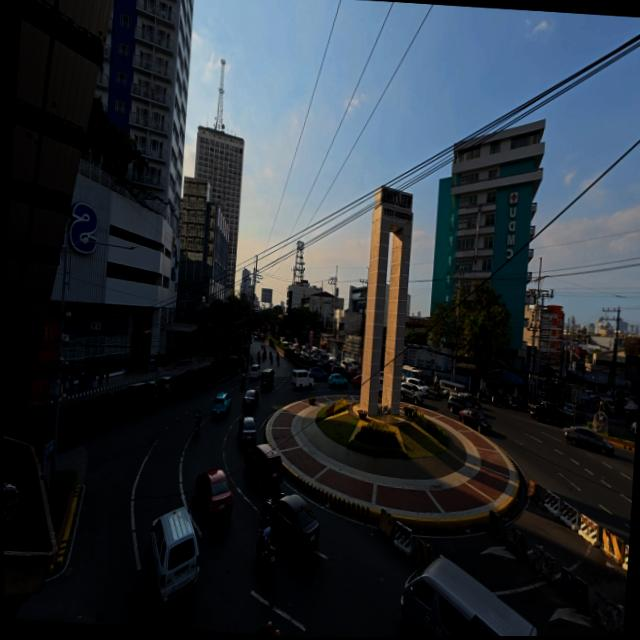Jeepneys: (438, 380, 466, 397)
car: (261, 494, 318, 556), (195, 469, 232, 522), (243, 443, 283, 489), (564, 427, 612, 456), (528, 401, 565, 425), (458, 409, 490, 432), (237, 416, 255, 447), (400, 382, 423, 405), (212, 392, 231, 416), (405, 378, 429, 397), (563, 403, 585, 421), (447, 396, 470, 413), (458, 393, 481, 410), (26, 402, 53, 415), (242, 390, 258, 410), (155, 376, 170, 397), (597, 399, 614, 416), (327, 373, 347, 387), (331, 366, 352, 379), (340, 361, 356, 377), (310, 367, 327, 381), (624, 409, 637, 427), (124, 382, 146, 390), (309, 356, 321, 367), (327, 355, 340, 365), (352, 374, 361, 386), (323, 362, 331, 375), (629, 421, 636, 434), (321, 354, 331, 363), (378, 375, 382, 397)
motorcycle: (255, 531, 274, 574), (490, 391, 506, 406), (507, 396, 519, 409), (475, 389, 488, 401), (193, 418, 200, 434), (239, 382, 245, 391), (276, 358, 279, 366)
vans: (400, 557, 537, 636), (145, 504, 203, 603), (291, 369, 313, 388), (260, 369, 274, 390), (249, 364, 261, 379)
